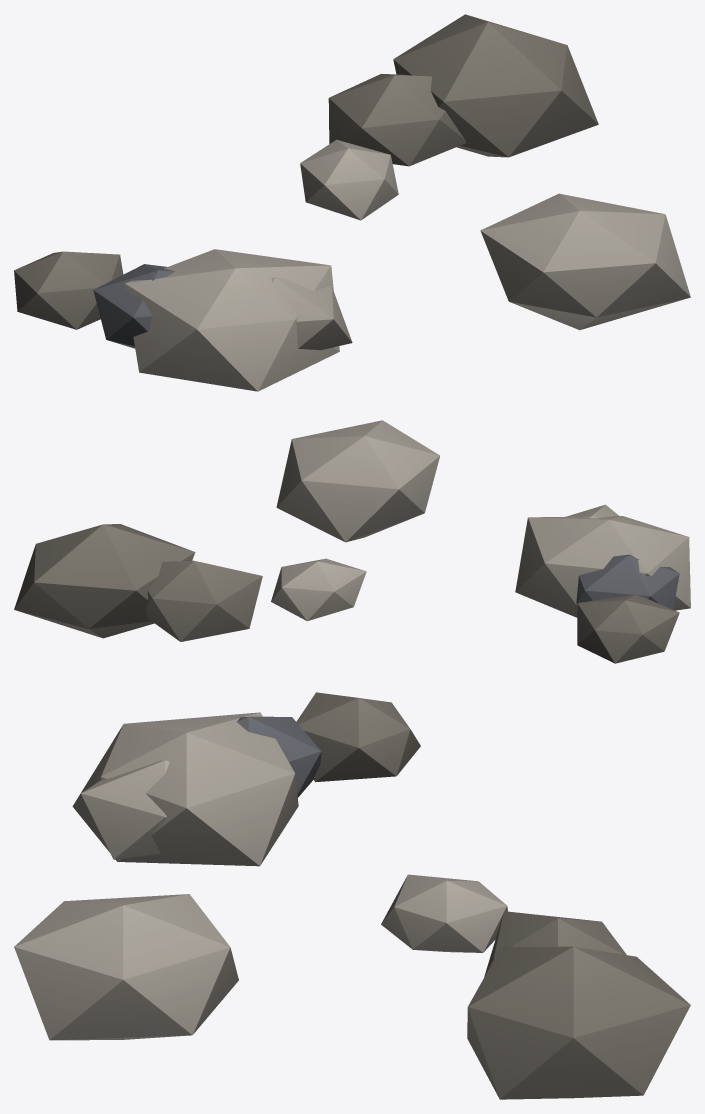
The model's file is deposit_iron.glb.
The picture shows the model from 3 angles, top to bottom: view 1: azimuth 30°, elevation 25°; view 2: azimuth 150°, elevation 25°; view 3: azimuth 270°, elevation 25°; orthographic projection. The views are drawn at different scales.
Parts seen in each view (by area): view 1: deposit_iron; view 2: deposit_iron; view 3: deposit_iron.
Boxes of the visible parts, x1=… form: deposit_iron: x1=14, y1=14, x2=690, y2=391; deposit_iron: x1=14, y1=420, x2=690, y2=663; deposit_iron: x1=14, y1=692, x2=690, y2=1099.
Size of the model in its own units: 1.87 by 0.375 by 1.51.
1 material, 1 textured.
